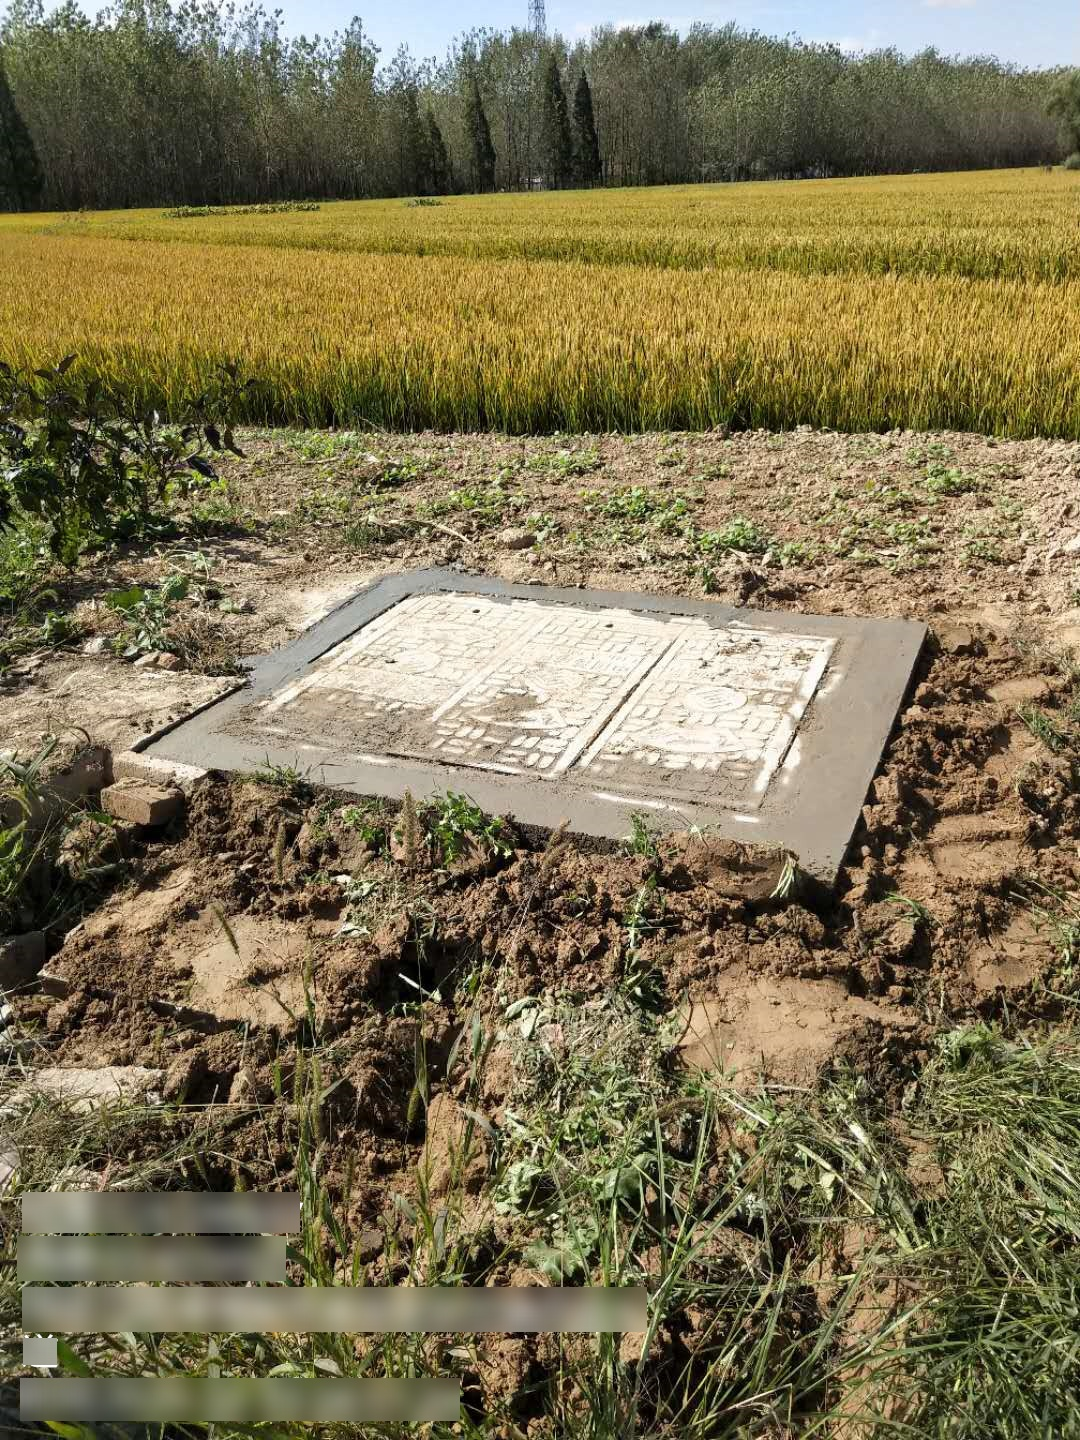good: (221, 585, 857, 824)
